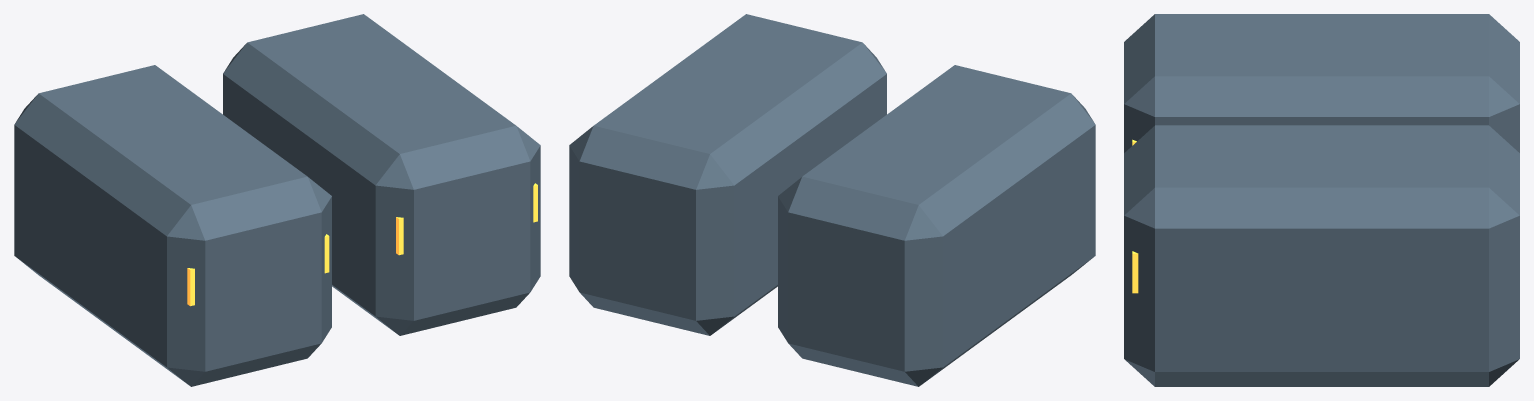
Rendered from SM_NPC_Feet_002_Armor.glb.
3 views of the same model, side by side, from view 1: azimuth 30°, elevation 25°; view 2: azimuth 150°, elevation 25°; view 3: azimuth 270°, elevation 25° (orthographic). The views are drawn at different scales.
Visible parts, largest first — view 1: SM_NPC_Feet_002_Armor; view 2: SM_NPC_Feet_002_Armor; view 3: SM_NPC_Feet_002_Armor.
Boxes of the visible parts, box(x1,y1,x2,y2) form: SM_NPC_Feet_002_Armor: box(14, 14, 540, 386); SM_NPC_Feet_002_Armor: box(569, 14, 1095, 386); SM_NPC_Feet_002_Armor: box(1124, 14, 1519, 386).
Bounding box in the file's own units: 0.43 × 0.2 × 0.36.
